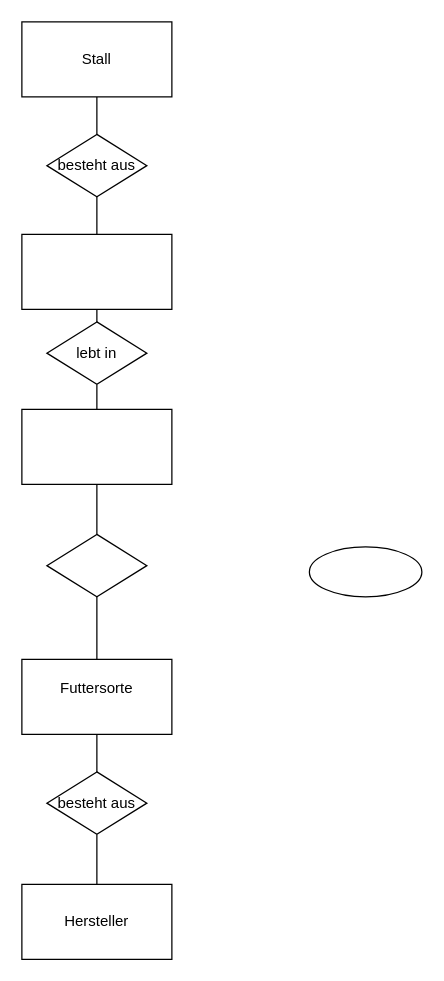
This 444x981 diagram has some shape labels left out. Each missing label, with the centre of its shape:
Box: point (96, 271)
frisst: point (96, 565)
Tier: point (96, 446)
